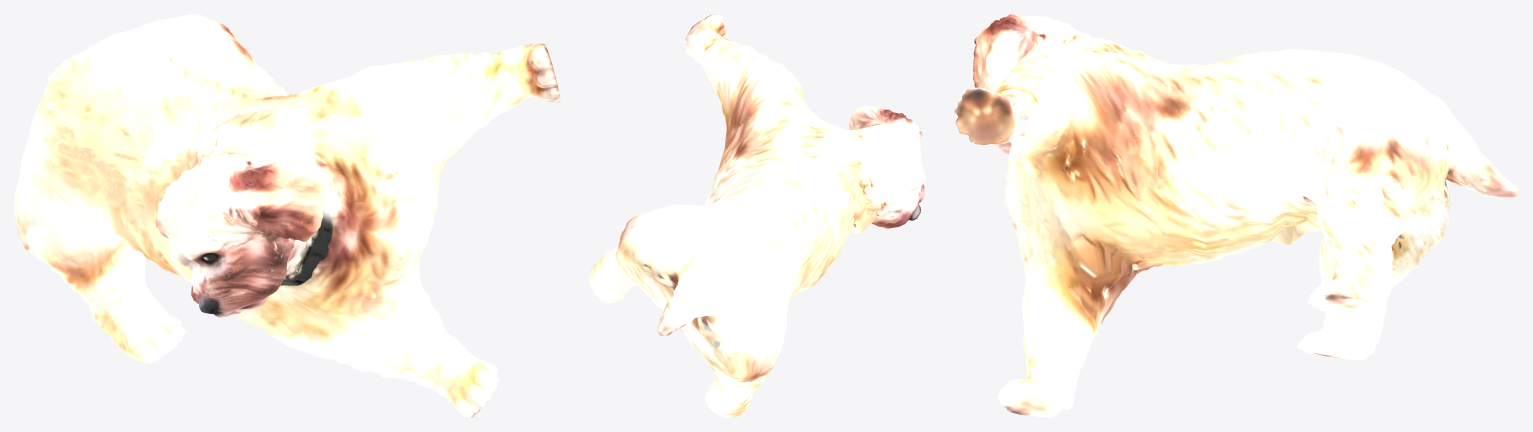
The model's file is sleep_pose_v5.glb.
The picture shows the model from 3 angles, left to right: view 1: azimuth 30°, elevation 25°; view 2: azimuth 150°, elevation 25°; view 3: azimuth 270°, elevation 25°; orthographic projection. The views are drawn at different scales.
Parts seen in each view (by area): view 1: char1; view 2: char1; view 3: char1.
Part boxes in pixels (x1,y1,x2,y2): char1: [14, 14, 560, 417]; char1: [589, 14, 925, 417]; char1: [954, 14, 1518, 417].
Size of the model in its own units: 0.00302 by 0.00317 by 0.00433.
Materials: 1 (1 with a texture image).
